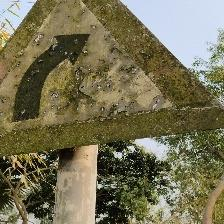Right-turn: (0, 1, 224, 152)
